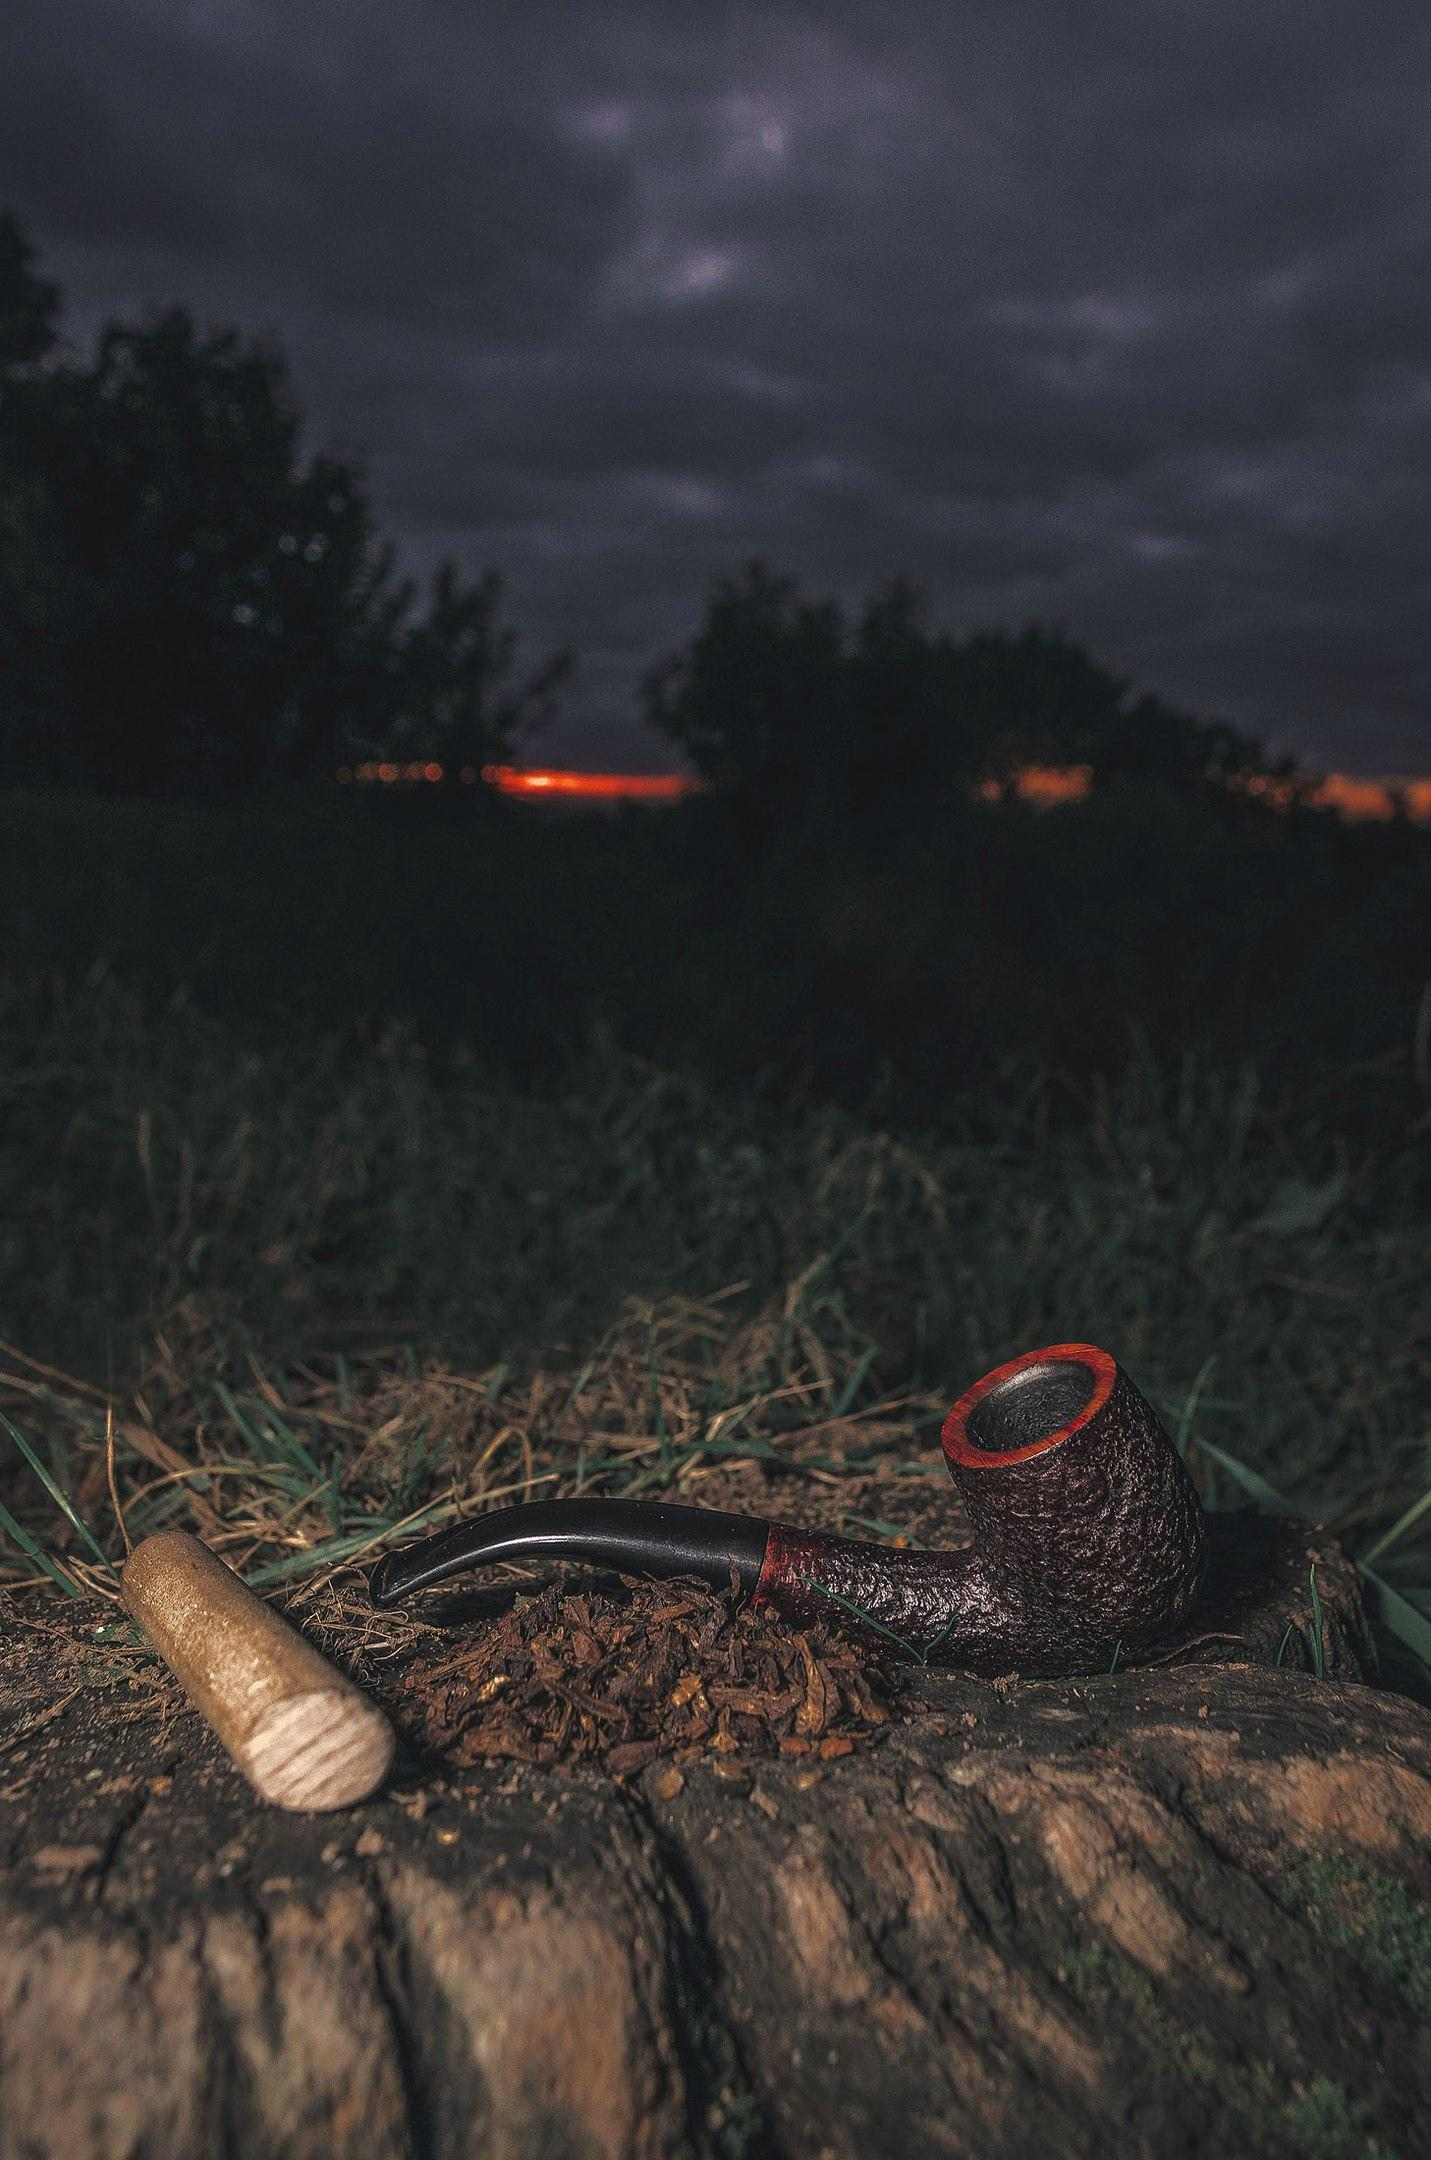trubka: (374, 1343, 1225, 1678)
